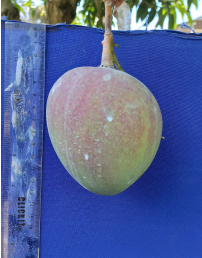Mango-sano: (46, 66, 161, 195)
